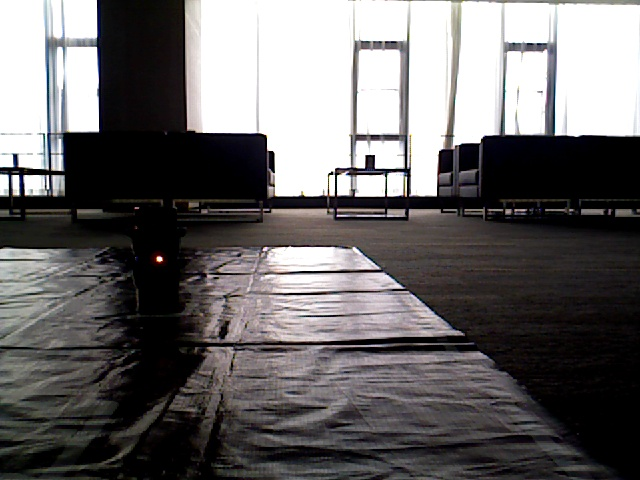yellow: (143, 212, 178, 305)
